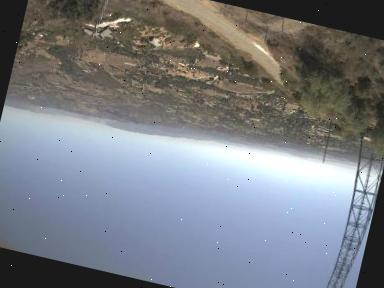smoke: (73, 110, 120, 134)
